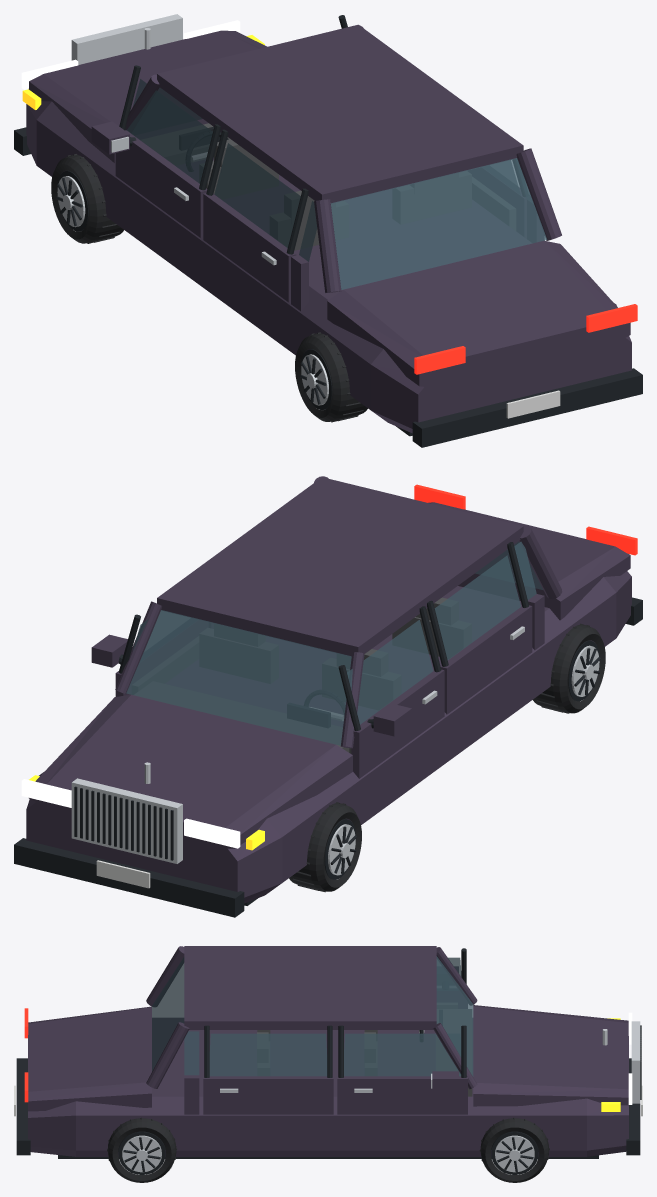
File: luxury_sedan.glb
The picture shows the model from 3 angles, top to bottom: view 1: azimuth 30°, elevation 25°; view 2: azimuth 150°, elevation 25°; view 3: azimuth 270°, elevation 25°; orthographic projection. The views are drawn at different scales.
Parts seen in each view (by area): view 1: Body, Door_FL, Door_RL, Wheel_FL, Wheel_RL, Door_RR; view 2: Body, Door_RL, Door_FL, Door_FR, Wheel_FL, Wheel_RL; view 3: Body, Door_RR, Door_FR, Wheel_RR, Wheel_FR, Door_FL.
Boxes of the visible parts, x1=… form: Body: x1=14, y1=14, x2=642, y2=447; Door_FL: x1=91, y1=65, x2=220, y2=237; Door_RL: x1=203, y1=129, x2=308, y2=302; Wheel_FL: x1=51, y1=154, x2=123, y2=243; Wheel_RL: x1=295, y1=332, x2=367, y2=422; Door_RR: x1=468, y1=159, x2=526, y2=238; Body: x1=14, y1=476, x2=642, y2=917; Door_RL: x1=427, y1=542, x2=532, y2=714; Door_FL: x1=338, y1=606, x2=444, y2=778; Door_FR: x1=91, y1=611, x2=208, y2=696; Wheel_FL: x1=289, y1=802, x2=361, y2=892; Wheel_RL: x1=533, y1=623, x2=605, y2=713; Body: x1=14, y1=946, x2=642, y2=1158; Door_RR: x1=203, y1=1025, x2=333, y2=1114; Door_FR: x1=337, y1=1025, x2=467, y2=1114; Wheel_RR: x1=107, y1=1117, x2=177, y2=1182; Wheel_FR: x1=479, y1=1117, x2=549, y2=1182; Door_FL: x1=437, y1=948, x2=467, y2=1008.
Size of what is drawn, in the model's own units: 2.49 by 1.56 by 5.86.
